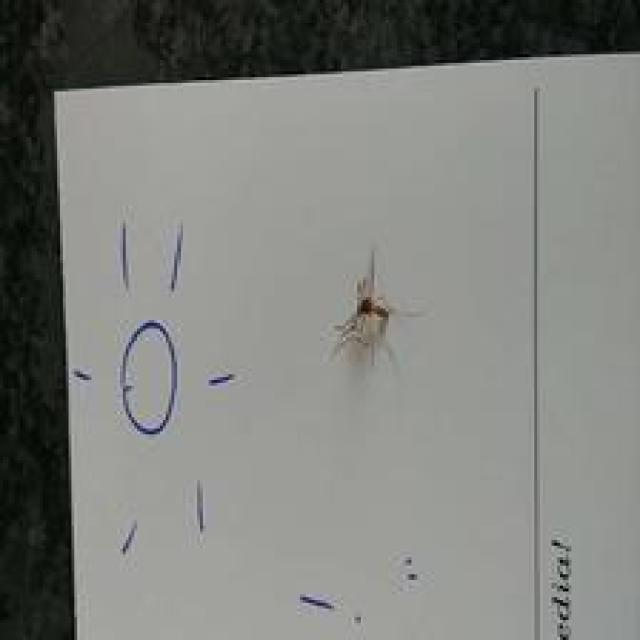Culex: (324, 248, 424, 368)
